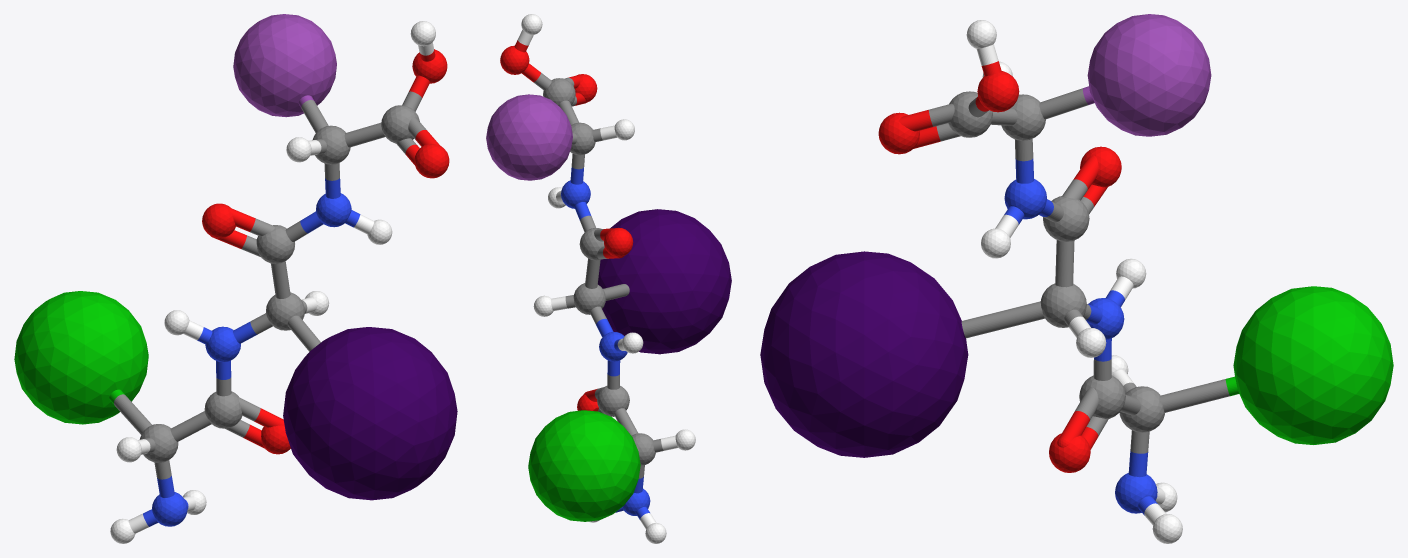
The model's file is primary.gltf.
3 renders of one model, left to right at view 1: azimuth 30°, elevation 25°; view 2: azimuth 150°, elevation 25°; view 3: azimuth 270°, elevation 25°, orthographic. The views are drawn at different scales.
Size of the model in its own units: 67.72 by 117 by 108.
